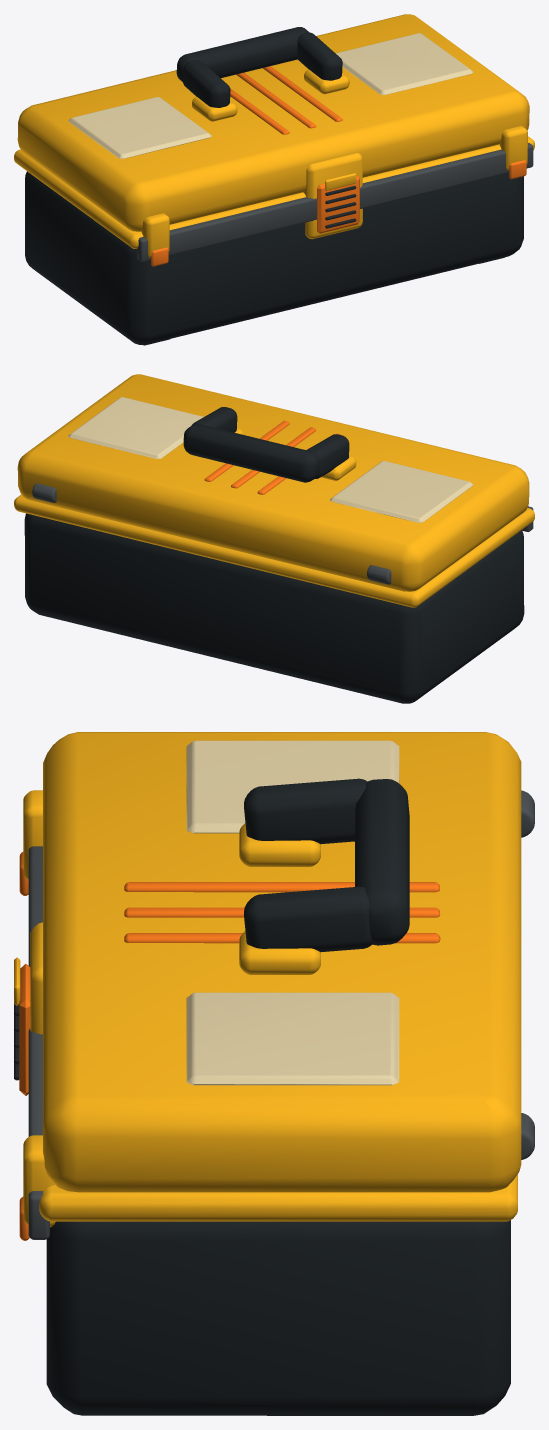
Rendered from Toolbook2.fbx.
The picture shows the model from 3 angles, top to bottom: view 1: azimuth 30°, elevation 25°; view 2: azimuth 150°, elevation 25°; view 3: azimuth 270°, elevation 25°; orthographic projection. The views are drawn at different scales.
Visible parts, largest first — view 1: Yellow upper lid, Lower black tub, Black front trim, Left organiser frosted lid, Right organiser frosted lid, Yellow lip, Handle grip, Front latch housing, Handle left post, Handle right post, Front latch face, Side latch (+6 smaller); view 2: Lower black tub, Yellow upper lid, Yellow lip, Left organiser frosted lid, Right organiser frosted lid, Handle grip, Handle left post, Handle right post, Central lid rib 3, Central lid rib 2, Handle left base; view 3: Yellow upper lid, Lower black tub, Right organiser frosted lid, Yellow lip, Left organiser frosted lid, Handle grip, Handle right post, Handle left post, Black front trim, Central lid rib 1, Handle right base, Handle left base (+6 smaller).
Part boxes in pixels (left/top/right/bottom): Yellow upper lid: left=17, top=14, right=529, bottom=231; Lower black tub: left=25, top=171, right=523, bottom=345; Black front trim: left=137, top=143, right=533, bottom=262; Left organiser frosted lid: left=68, top=97, right=211, bottom=158; Right organiser frosted lid: left=336, top=33, right=473, bottom=94; Yellow lip: left=14, top=136, right=534, bottom=248; Handle grip: left=176, top=27, right=309, bottom=81; Front latch housing: left=303, top=153, right=362, bottom=239; Handle left post: left=183, top=60, right=230, bottom=107; Handle right post: left=297, top=32, right=342, bottom=80; Front latch face: left=317, top=176, right=359, bottom=233; Side latch: left=141, top=213, right=169, bottom=257; Lower black tub: left=24, top=513, right=524, bottom=703; Yellow upper lid: left=17, top=374, right=529, bottom=591; Yellow lip: left=14, top=494, right=534, bottom=607; Left organiser frosted lid: left=330, top=461, right=473, bottom=522; Right organiser frosted lid: left=68, top=397, right=203, bottom=458; Handle grip: left=183, top=424, right=319, bottom=482; Handle left post: left=306, top=434, right=349, bottom=478; Handle right post: left=191, top=407, right=237, bottom=432; Central lid rib 3: left=204, top=420, right=289, bottom=481; Central lid rib 2: left=231, top=427, right=315, bottom=488; Handle left base: left=321, top=455, right=356, bottom=480; Yellow upper lid: left=43, top=732, right=521, bottom=1192; Lower black tub: left=46, top=1220, right=510, bottom=1415; Right organiser frosted lid: left=186, top=992, right=399, bottom=1085; Yellow lip: left=39, top=1174, right=517, bottom=1221; Left organiser frosted lid: left=186, top=740, right=399, bottom=833; Handle grip: left=355, top=779, right=409, bottom=945; Handle right post: left=244, top=886, right=373, bottom=952; Handle left post: left=244, top=778, right=367, bottom=844; Black front trim: left=28, top=846, right=49, bottom=1239; Central lid rib 1: left=124, top=882, right=439, bottom=892; Handle right base: left=239, top=931, right=320, bottom=974; Handle left base: left=239, top=823, right=320, bottom=866.
Bounding box in the file's own units: 90.02 × 43.48 × 50.85.
